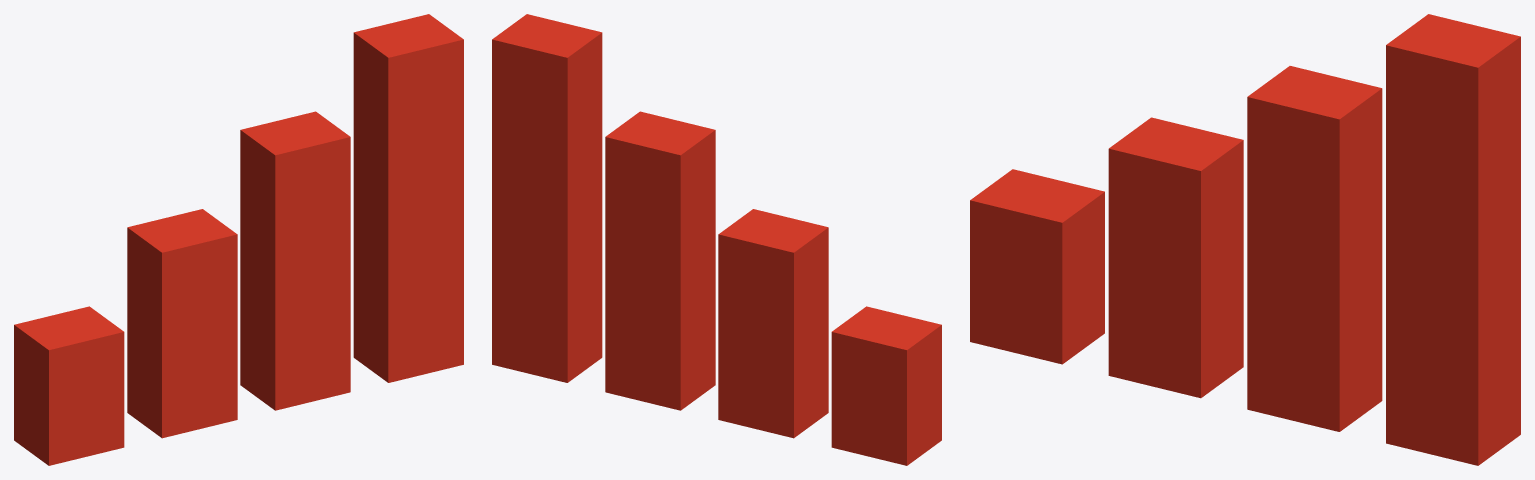
The model's file is Icon_Chart_03.fbx.
3 renders of one model, left to right at view 1: azimuth 30°, elevation 25°; view 2: azimuth 150°, elevation 25°; view 3: azimuth 330°, elevation 25°, orthographic. The views are drawn at different scales.
Parts seen in each view (by area): view 1: Icon_Chart_03; view 2: Icon_Chart_03; view 3: Icon_Chart_03.
Boxes of the visible parts, x1=… form: Icon_Chart_03: x1=14, y1=14, x2=463, y2=465; Icon_Chart_03: x1=492, y1=14, x2=941, y2=465; Icon_Chart_03: x1=970, y1=14, x2=1520, y2=465.
Size of the model in its own units: 82.97 by 62.13 by 12.06.
